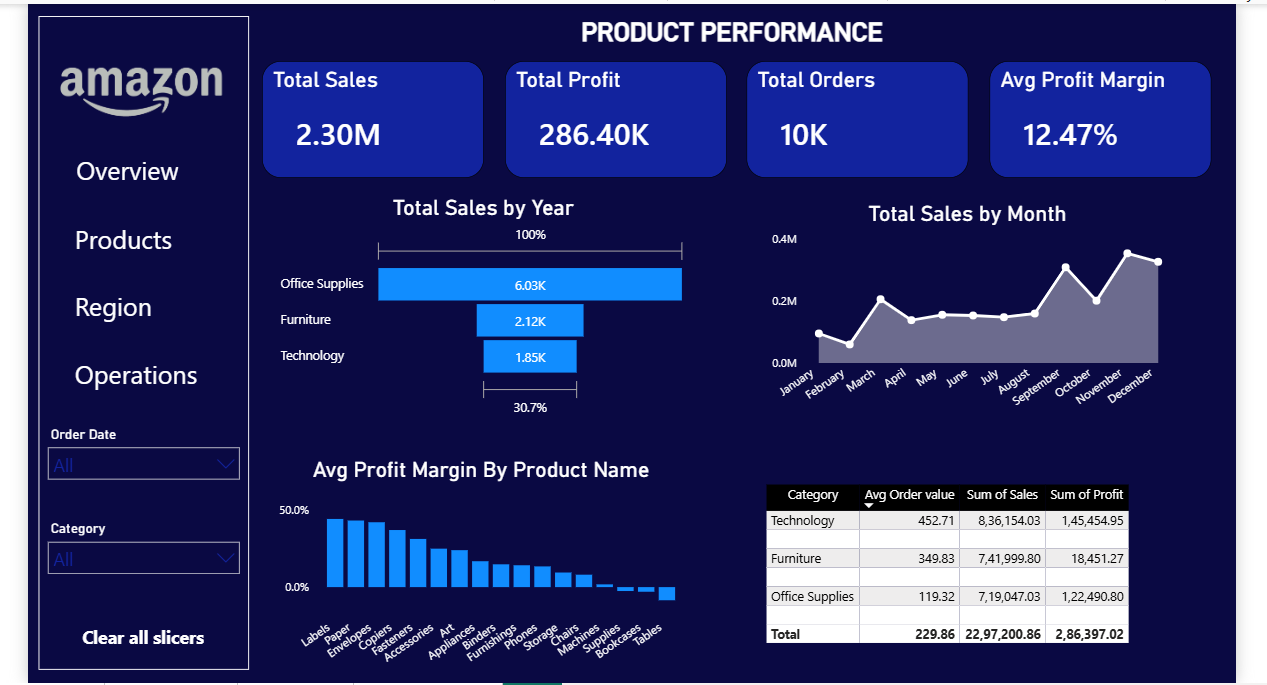

The dashboard page shown, as its layout file describes it:
{"tool":"powerbi","page":{"name":"Products","canvas":[1280,720],"ordinal":1},"visuals":[{"type":"cardVisual","title":"Avg Profit Margin","fields":{"Data":["Orders.Avg Profit Margin"]},"box":[1019.6,60.4,235.4,124.1],"z":0},{"type":"cardVisual","title":"Total Orders","fields":{"Data":["Orders.Total Orders"]},"box":[762.4,60.4,235,124],"z":1000},{"type":"cardVisual","title":"Total Profit","fields":{"Data":["Orders.Total Profit"]},"box":[505.3,60.4,235,124.1],"z":2000},{"type":"cardVisual","title":"Total Sales","fields":{"Data":["Orders.Total Sales"]},"box":[248.1,60.4,235,124],"z":3000},{"type":"funnel","title":"Total Sales by Year","fields":{"Category":["Orders.Category"],"Y":["CountNonNull(Orders.Order Date)"]},"box":[262.5,202,440.6,240.2],"z":4000},{"type":"areaChart","fields":{"Category":["Orders.Order Date.Variation.Date Hierarchy.Month"],"Y":["Orders.Total Sales"]},"box":[776.2,208.4,440,240],"z":5000},{"type":"textbox","title":"PRODUCT PERFORMANCE","box":[261.7,13.3,968.3,60],"z":6000},{"type":"columnChart","title":"Avg Profit Margin By  Product Name","fields":{"Category":["Orders.Sub-Category"],"Y":["Orders.Avg Profit Margin"]},"box":[260.9,480.4,439,240.2],"z":7000},{"type":"pivotTable","fields":{"Rows":["Orders.Category"],"Values":["Orders.Avg Order value","Sum(Orders.Sales)","Sum(Orders.Profit)"]},"box":[777.8,504.2,453.3,216.3],"z":8000},{"type":"shape","box":[11.7,13.3,223.3,693.3],"z":9000},{"type":"image","box":[23.9,12.7,197.2,170.2],"z":10000},{"type":"actionButton","box":[38.3,143.3,196.7,65],"z":11000},{"type":"actionButton","box":[36.7,360,196.7,65],"z":12000},{"type":"actionButton","box":[36.7,287.8,196.7,65],"z":13000},{"type":"actionButton","box":[36.7,215.6,196.7,65],"z":14000},{"type":"slicer","fields":{"Values":["Orders.Order Date"]},"box":[11.7,441.7,223.3,100],"z":15000},{"type":"slicer","fields":{"Values":["Orders.Category"]},"box":[11.7,541.7,223.3,103.3],"z":16000},{"type":"actionButton","box":[11.7,645,221.7,50],"z":17000}]}

Visuals, with their boxes on the page's 1280x720 design canvas (x1, y1, x2, y2). These are canvas units, not pixel positions in the 1267x685 screenshot, which may show the page scaled, cropped or inside an application window:
"Avg Profit Margin" cardVisual: 1020:60:1255:184
"Total Orders" cardVisual: 762:60:997:184
"Total Profit" cardVisual: 505:60:740:184
"Total Sales" cardVisual: 248:60:483:184
"Total Sales by Year" funnel: 262:202:703:442
areaChart - Orders.Order Date.Variation.Date Hierarchy.Month x Orders.Total Sales: 776:208:1216:448
"PRODUCT PERFORMANCE" textbox: 262:13:1230:73
"Avg Profit Margin By  Product Name" columnChart: 261:480:700:721
pivotTable - Orders.Category x Orders.Avg Order value: 778:504:1231:720
shape: 12:13:235:707
image: 24:13:221:183
actionButton: 38:143:235:208
actionButton: 37:360:233:425
actionButton: 37:288:233:353
actionButton: 37:216:233:281
slicer - Orders.Order Date: 12:442:235:542
slicer - Orders.Category: 12:542:235:645
actionButton: 12:645:233:695
